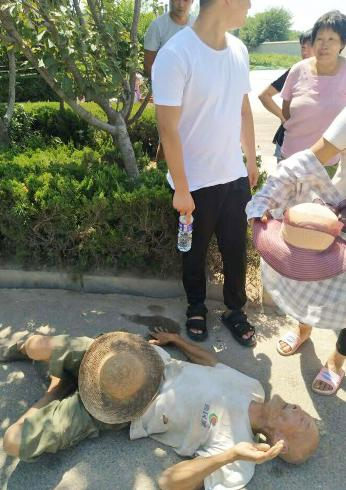fall: (2, 311, 336, 489)
